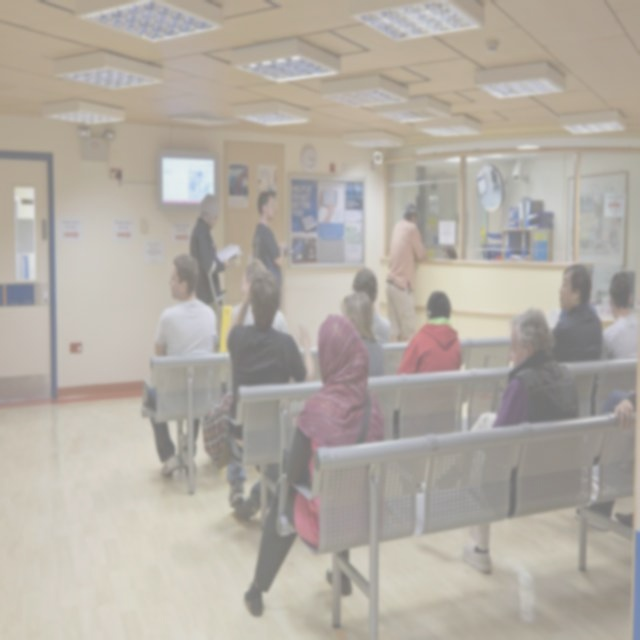pessoa: (241, 310, 387, 620), (431, 304, 584, 578), (136, 250, 222, 482), (299, 314, 386, 497), (574, 384, 640, 537), (384, 202, 428, 344), (394, 288, 463, 376), (548, 262, 604, 362), (189, 192, 226, 341), (230, 256, 290, 334), (229, 262, 289, 334), (252, 188, 286, 312), (572, 187, 622, 256), (350, 264, 392, 346), (600, 270, 638, 360), (490, 347, 516, 413), (320, 178, 346, 226), (544, 305, 566, 348), (185, 164, 210, 198), (291, 233, 317, 264), (256, 160, 278, 194), (228, 164, 248, 196), (437, 242, 459, 260), (486, 164, 500, 191), (588, 292, 601, 319)
